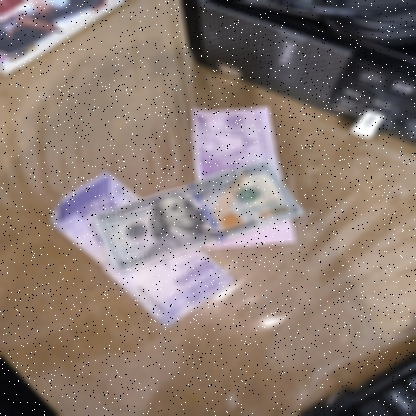one_hundred-front: (95, 161, 307, 270)
